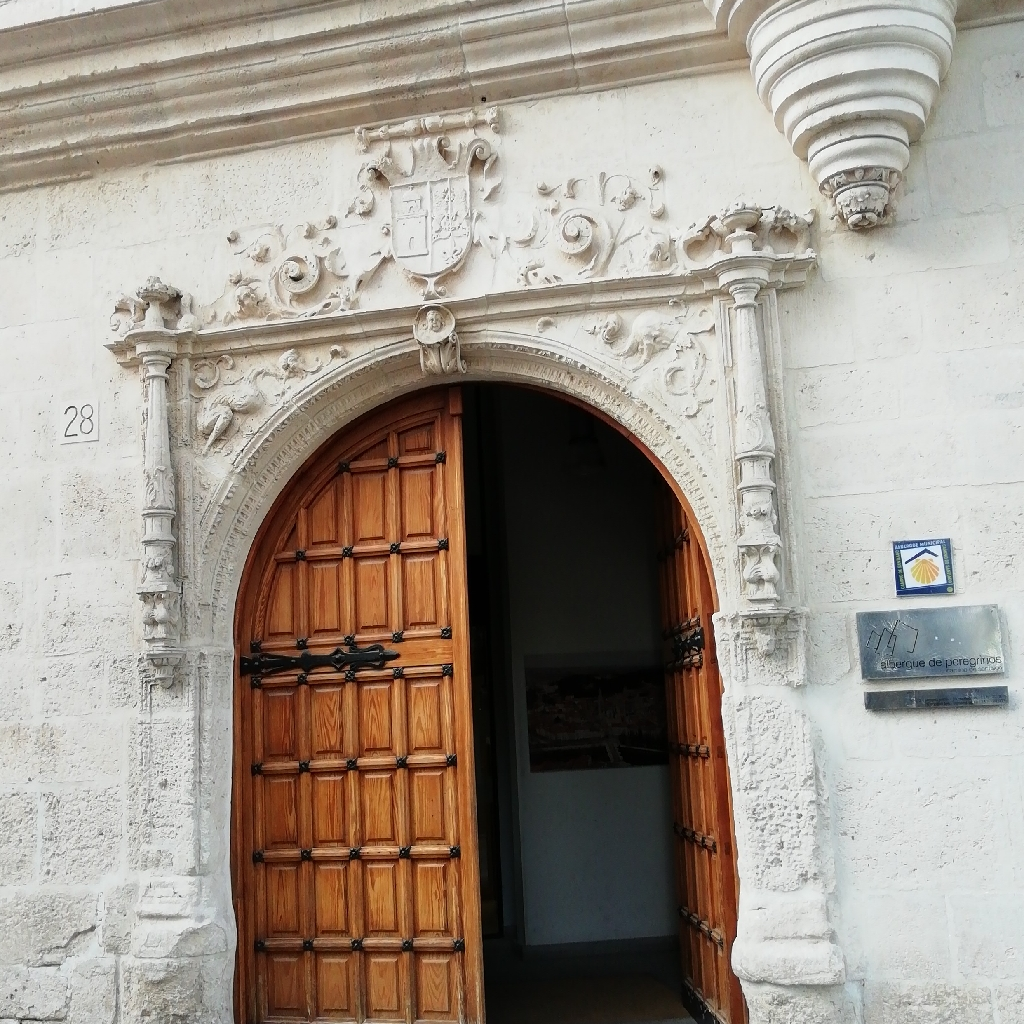arco-medio-punto: (195, 317, 745, 686)
